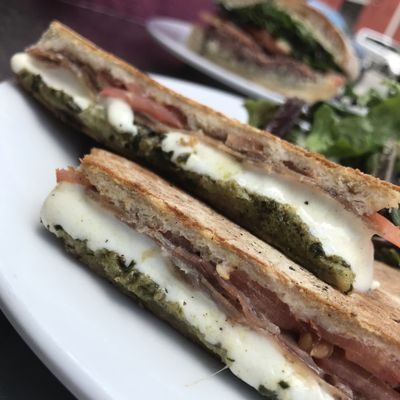soup: (39, 22, 399, 391), (195, 0, 362, 104)
